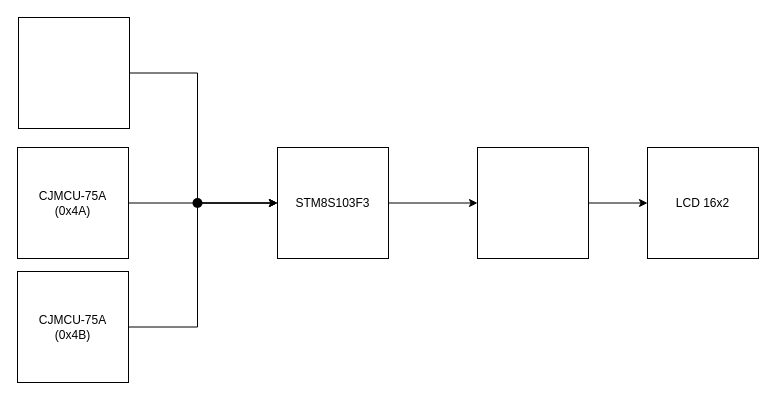
Image size: 776x400. Some labels were removed from this diagram. The shapes that lost their labels are listed below. From the top down, each one's box as (x1, y1, x2, y2) in pixels, then its label:
(18, 16, 130, 128): CJMCU-75A (0x49)
(476, 146, 588, 258): PCF8574 0x27
